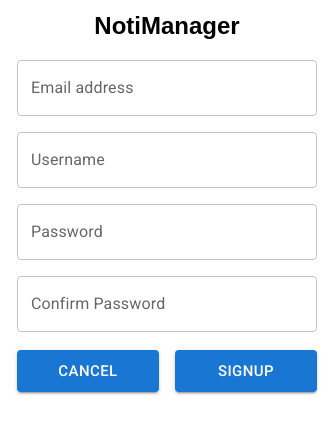
Test case: SignUp › should handle signup failure: invalid email
Type "test@test" into the field with test id "email-input" at (167, 88), box x1=17 y1=60 x2=317 y2=116
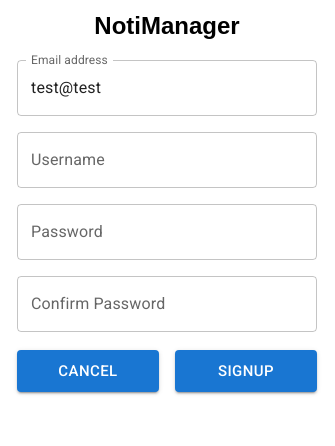
Type "username" into the field with test id "username-input" at (167, 160), box x1=17 y1=132 x2=317 y2=188
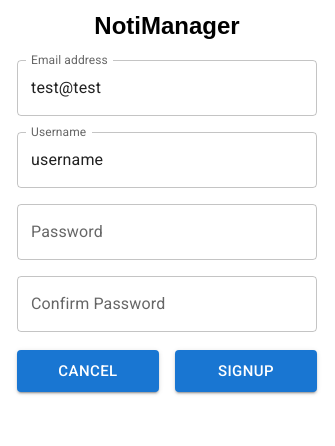
Type "password" into the password field with test id "password-input" at (167, 232), box x1=17 y1=204 x2=317 y2=260
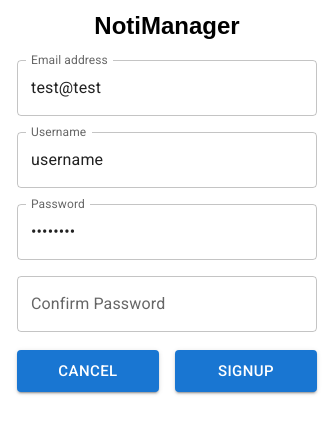
Type "password" into the password field with test id "password-confirm" at (167, 304), box x1=17 y1=276 x2=317 y2=332
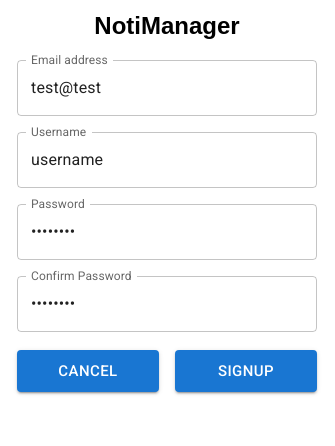
Click the button with test id "signup-button" at (246, 371), box x1=175 y1=350 x2=317 y2=392
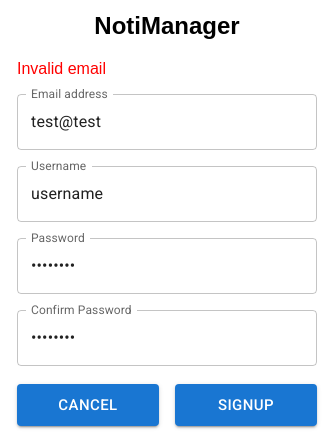
Now the text "Invalid email" is shown, box x1=17 y1=60 x2=106 y2=77
